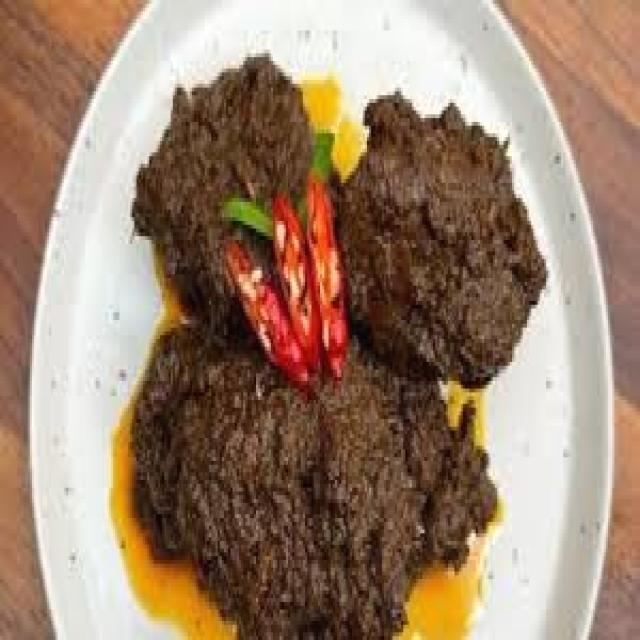rendang: (128, 297, 499, 640), (339, 91, 548, 392)
